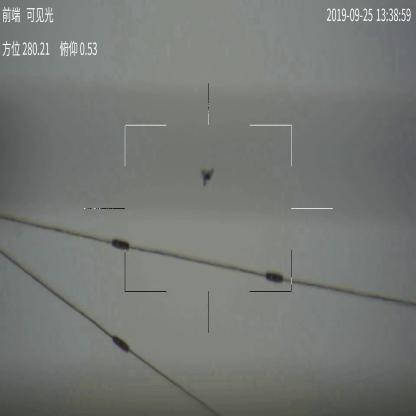uav: (198, 165, 214, 184)
